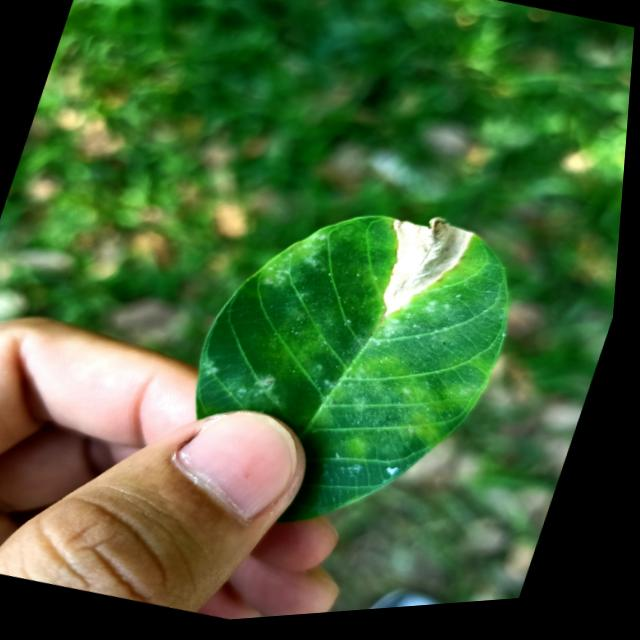Leaf-Blight: (370, 211, 482, 335)
